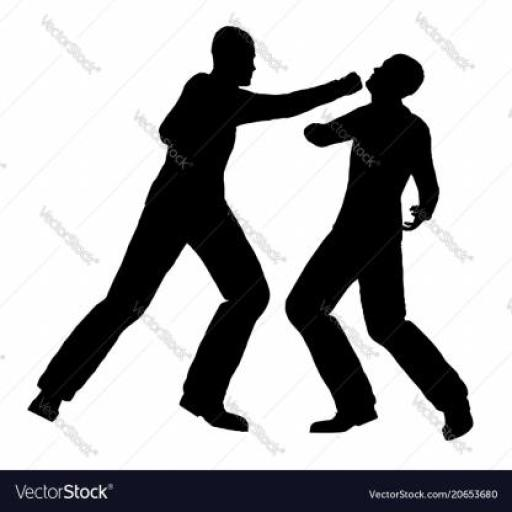Fighting: (31, 28, 474, 442)
